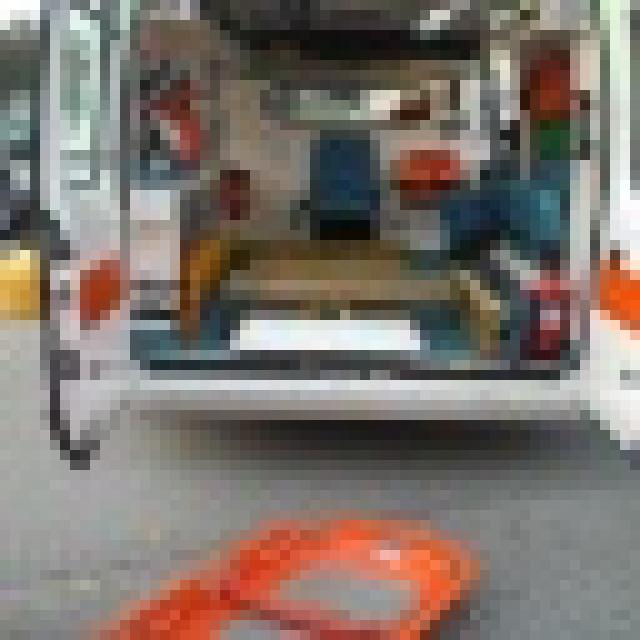Ambulance: (30, 0, 620, 460)
